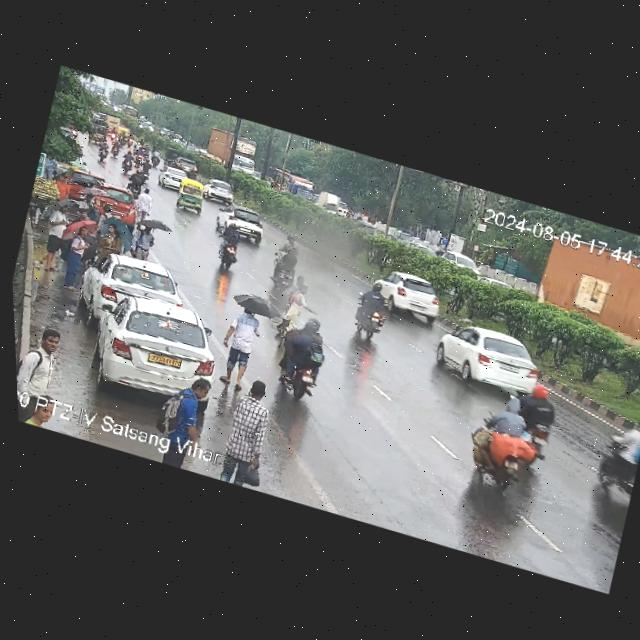bus: (269, 167, 319, 203), (118, 104, 141, 123)
car: (64, 252, 237, 411), (73, 243, 193, 341), (426, 314, 550, 403), (364, 263, 447, 325), (77, 179, 141, 223), (210, 199, 266, 245), (54, 163, 106, 205), (174, 177, 210, 216), (200, 178, 236, 206), (441, 249, 482, 272), (157, 164, 189, 193), (170, 152, 202, 176), (88, 123, 107, 143), (115, 125, 132, 142)
motorcycle: (454, 396, 542, 510), (265, 311, 340, 407), (501, 380, 570, 469), (587, 419, 640, 517), (345, 274, 398, 348), (264, 242, 310, 298), (208, 220, 249, 275), (126, 169, 146, 198), (118, 149, 136, 175), (94, 139, 111, 163), (137, 160, 154, 182), (149, 148, 164, 167)
person: (210, 376, 286, 492), (146, 368, 219, 471), (14, 319, 75, 429), (209, 303, 268, 393), (51, 224, 95, 293), (274, 272, 318, 341), (34, 199, 76, 265), (128, 221, 159, 261), (95, 221, 127, 254)
truck: (517, 226, 640, 367), (200, 124, 262, 176), (131, 185, 158, 223), (315, 190, 346, 215), (101, 111, 123, 135)
